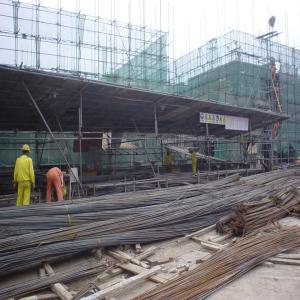yellow: (23, 144, 30, 157), (189, 149, 193, 155), (167, 149, 171, 155)
